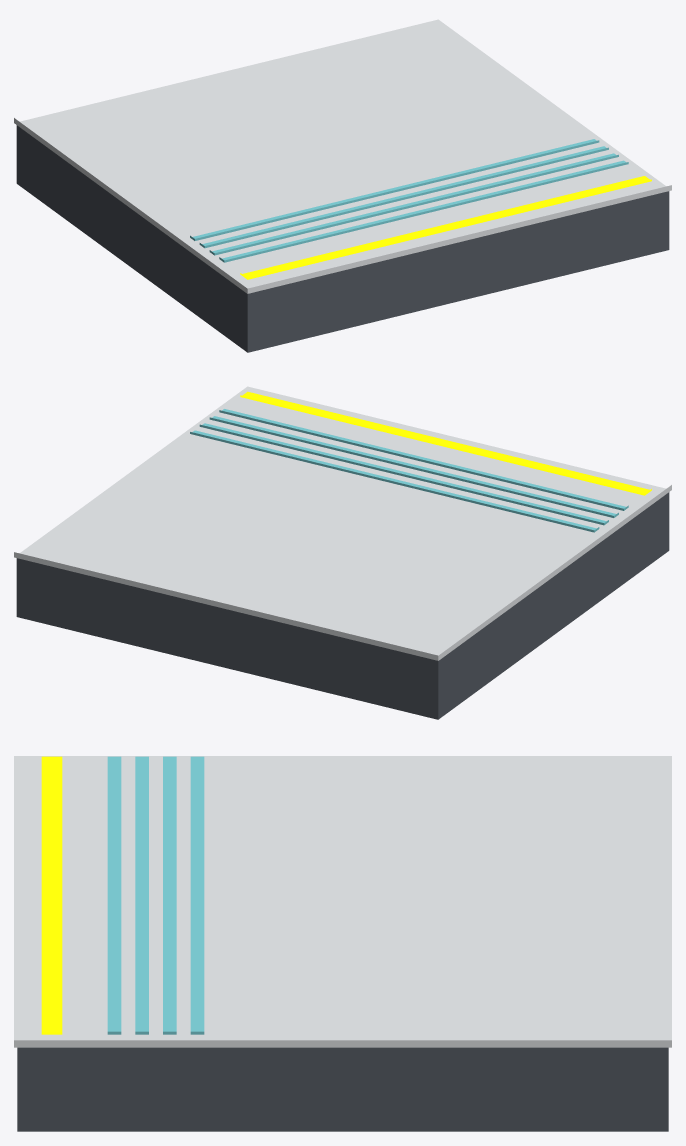
Rendered from ext_tram_platform_kerb_02.glb.
3 views of the same model, one above another, from view 1: azimuth 30°, elevation 25°; view 2: azimuth 150°, elevation 25°; view 3: azimuth 270°, elevation 25° (orthographic). The views are drawn at different scales.
Parts seen in each view (by area): view 1: Deck, Body, Tactile_Bars, Safety_Line; view 2: Deck, Body, Tactile_Bars, Safety_Line; view 3: Deck, Body, Tactile_Bars, Safety_Line.
Part boxes in pixels (x1,y1,x2,y2): Deck: [14, 19, 671, 293]; Body: [16, 125, 669, 352]; Tactile_Bars: [190, 139, 628, 262]; Safety_Line: [240, 176, 651, 279]; Deck: [14, 386, 671, 660]; Body: [16, 492, 669, 719]; Tactile_Bars: [190, 409, 628, 532]; Safety_Line: [240, 391, 651, 495]; Deck: [14, 756, 671, 1047]; Body: [17, 1047, 668, 1131]; Tactile_Bars: [107, 756, 204, 1034]; Safety_Line: [41, 756, 62, 1034].
Size of the model in its own units: 1.99 by 0.3 by 1.9.
